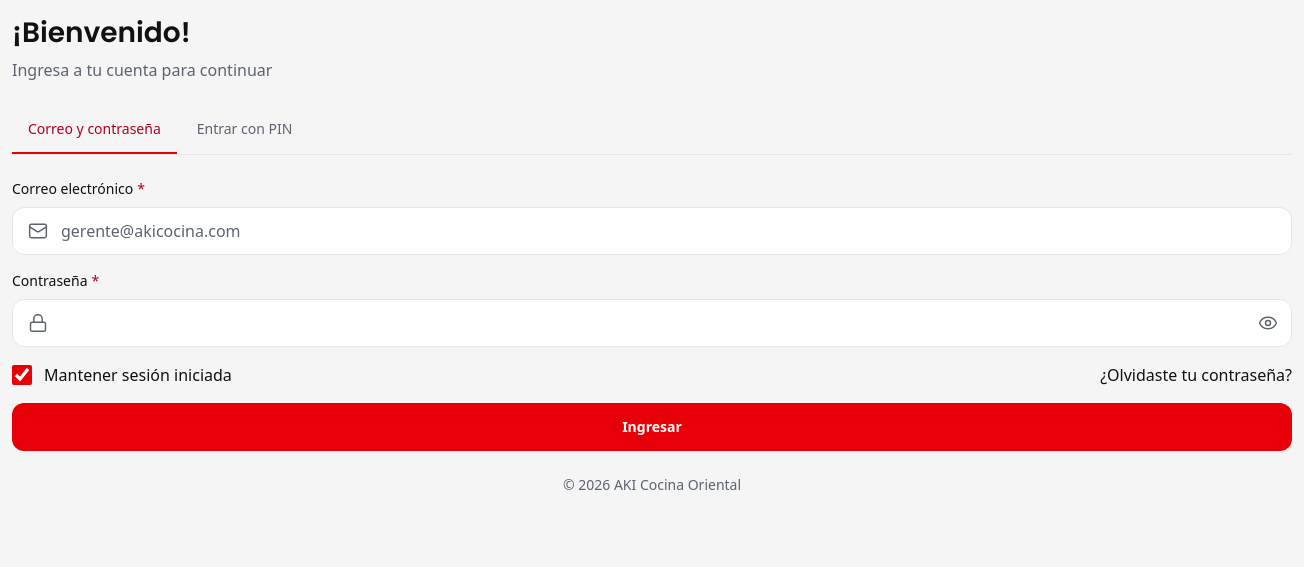
A1 — LoginForm › muestra el mensaje del servidor con credenciales incorrectas
Type "admin@aki.co" into the field labelled "Correo electrónico*" at (652, 231), box [12,207,1292,255]
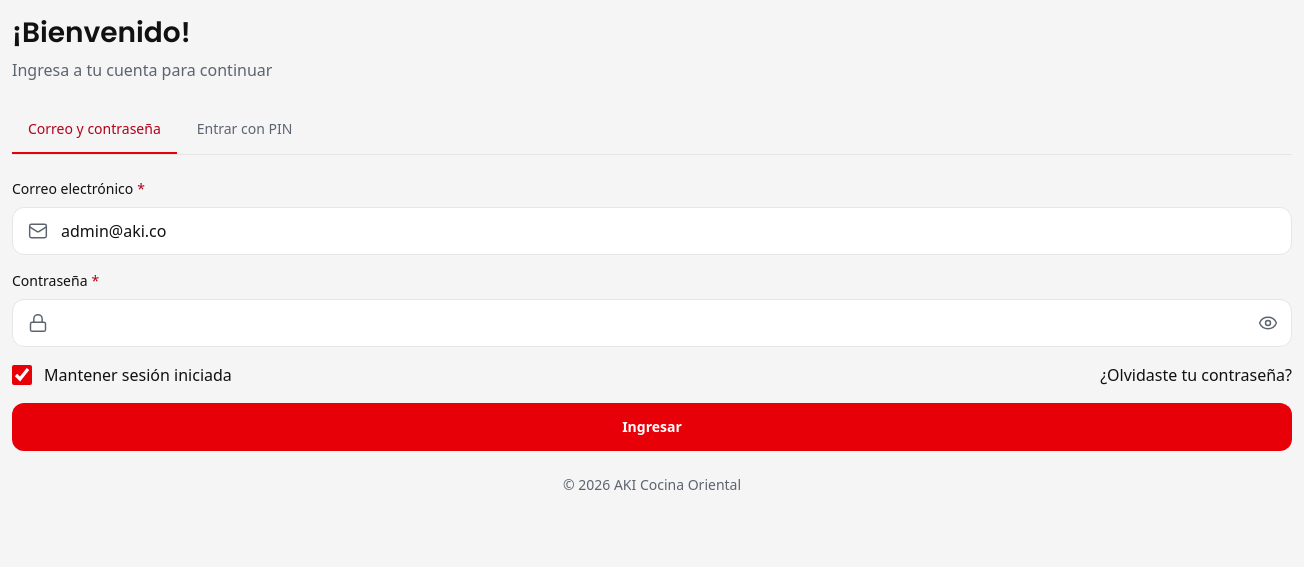
Type "Admin1234!" into the password field labelled "Contraseña*" at (652, 323), box [12,299,1292,347]
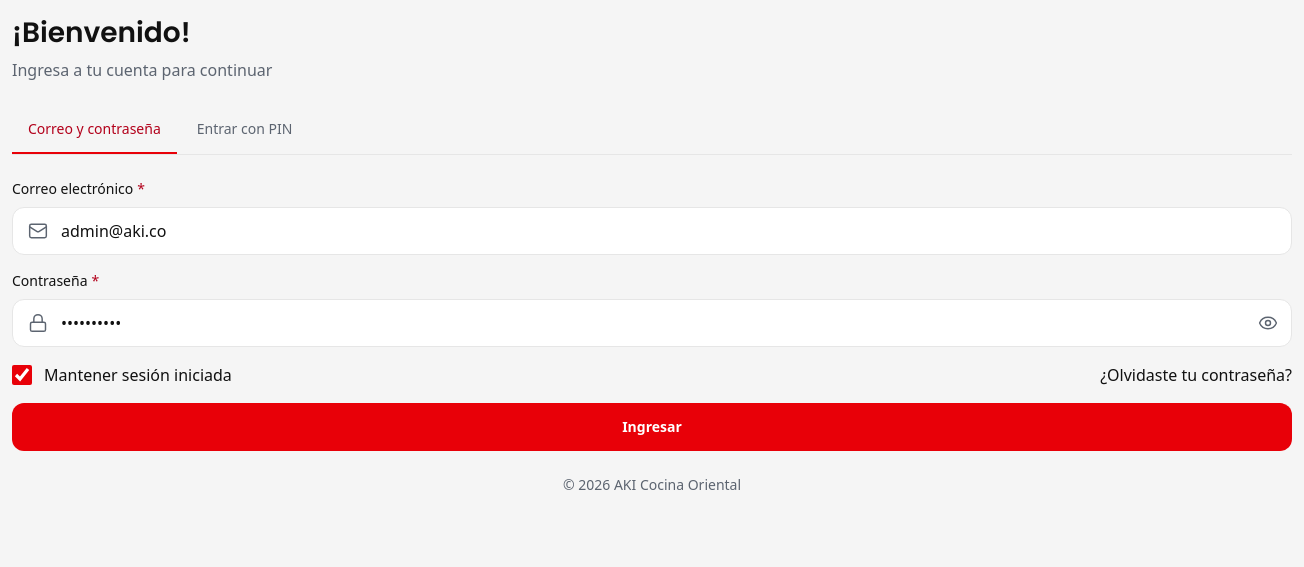
Click the button "Ingresar" at (652, 427), box [12,403,1292,451]
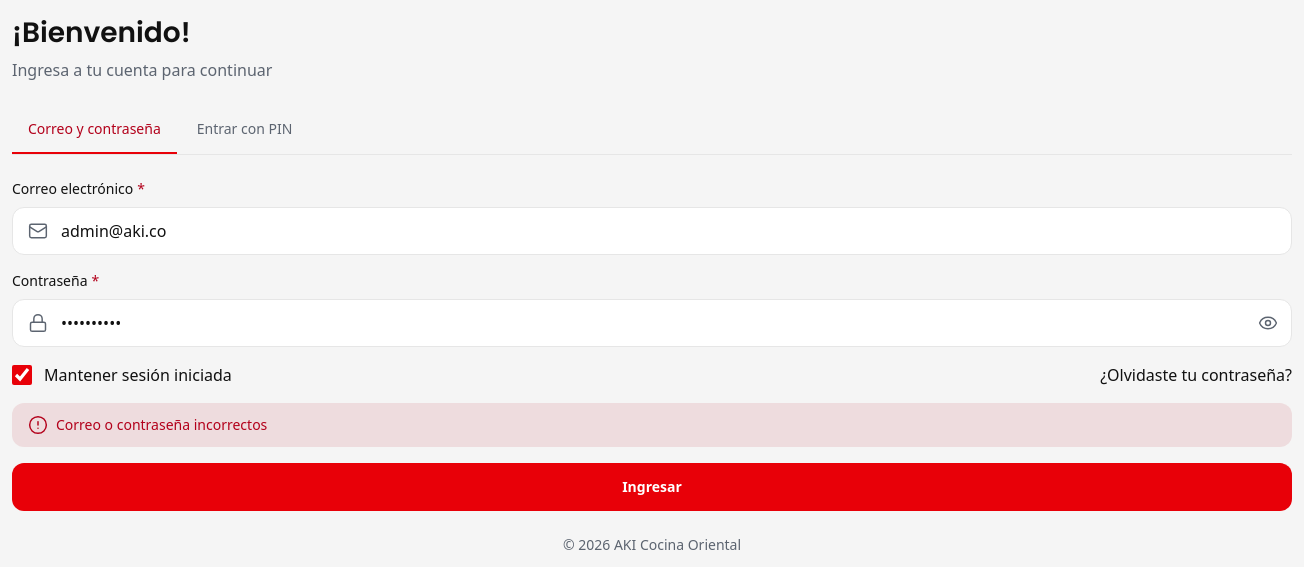
Expected: the message reads "Correo o contraseña incorrectos", [56,415,267,434]
